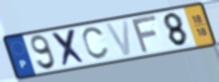8: (162, 11, 189, 48)
9: (30, 34, 58, 72)
C: (81, 25, 111, 61)
F: (130, 13, 159, 55)
V: (104, 18, 134, 58)
X: (50, 27, 89, 69)
